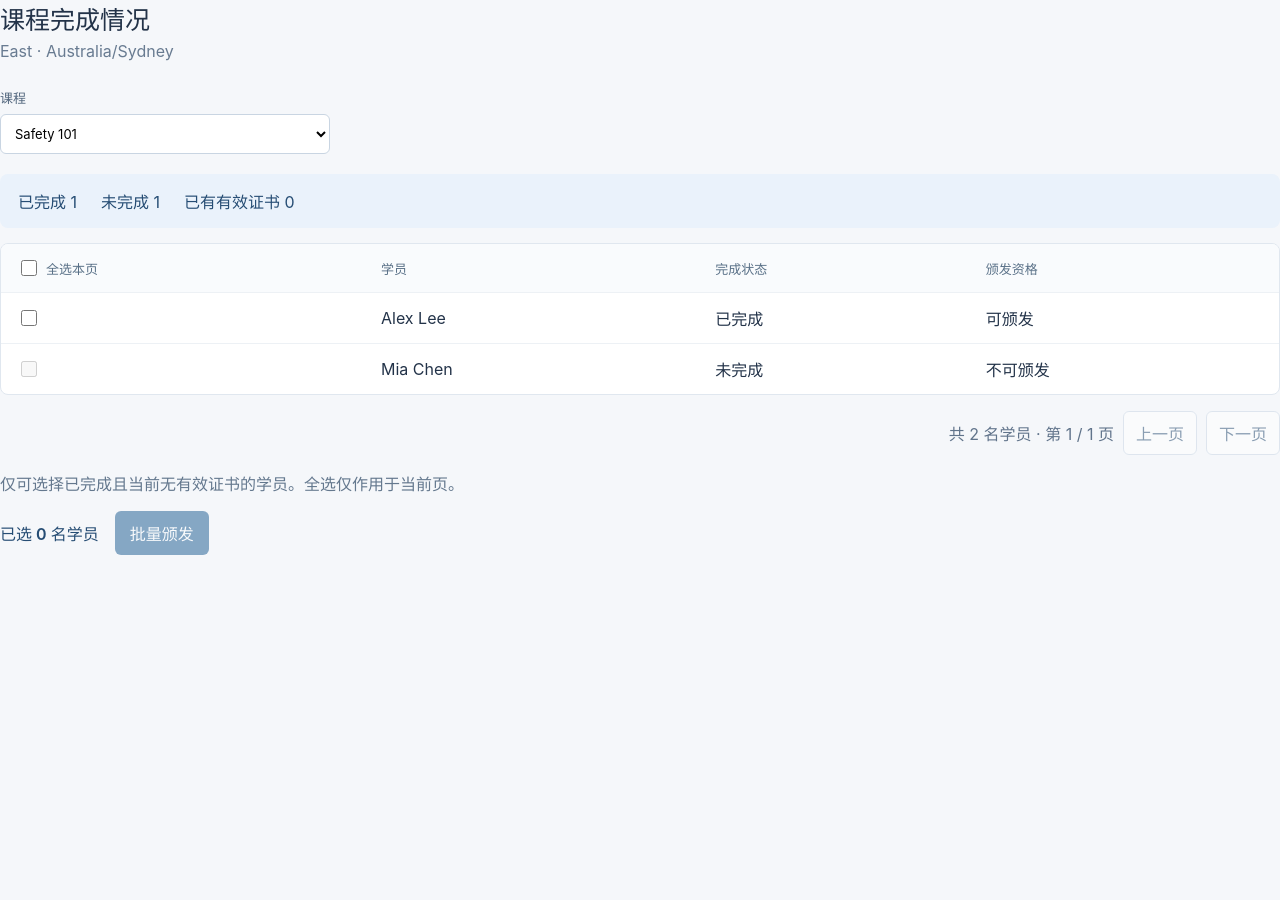
Test case: focuses bulk confirmation and returns focus when Escape closes it
Check: the text "Alex Lee" is shown, box [365,292,699,344]
Click the checkbox named "选择 Alex Lee": (29, 318) [21,310,37,326]
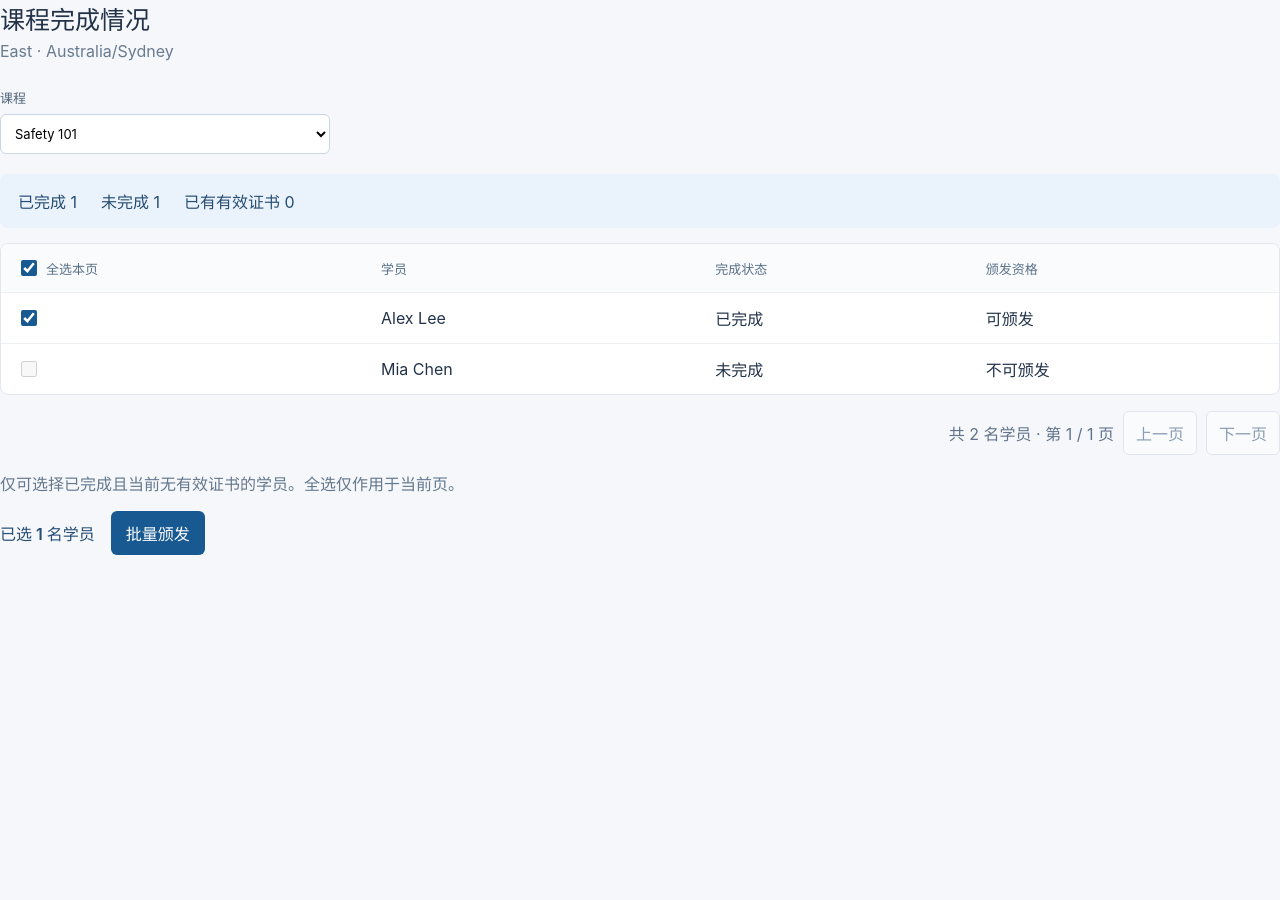
Click the button "批量颁发": (158, 533) [111,511,205,555]
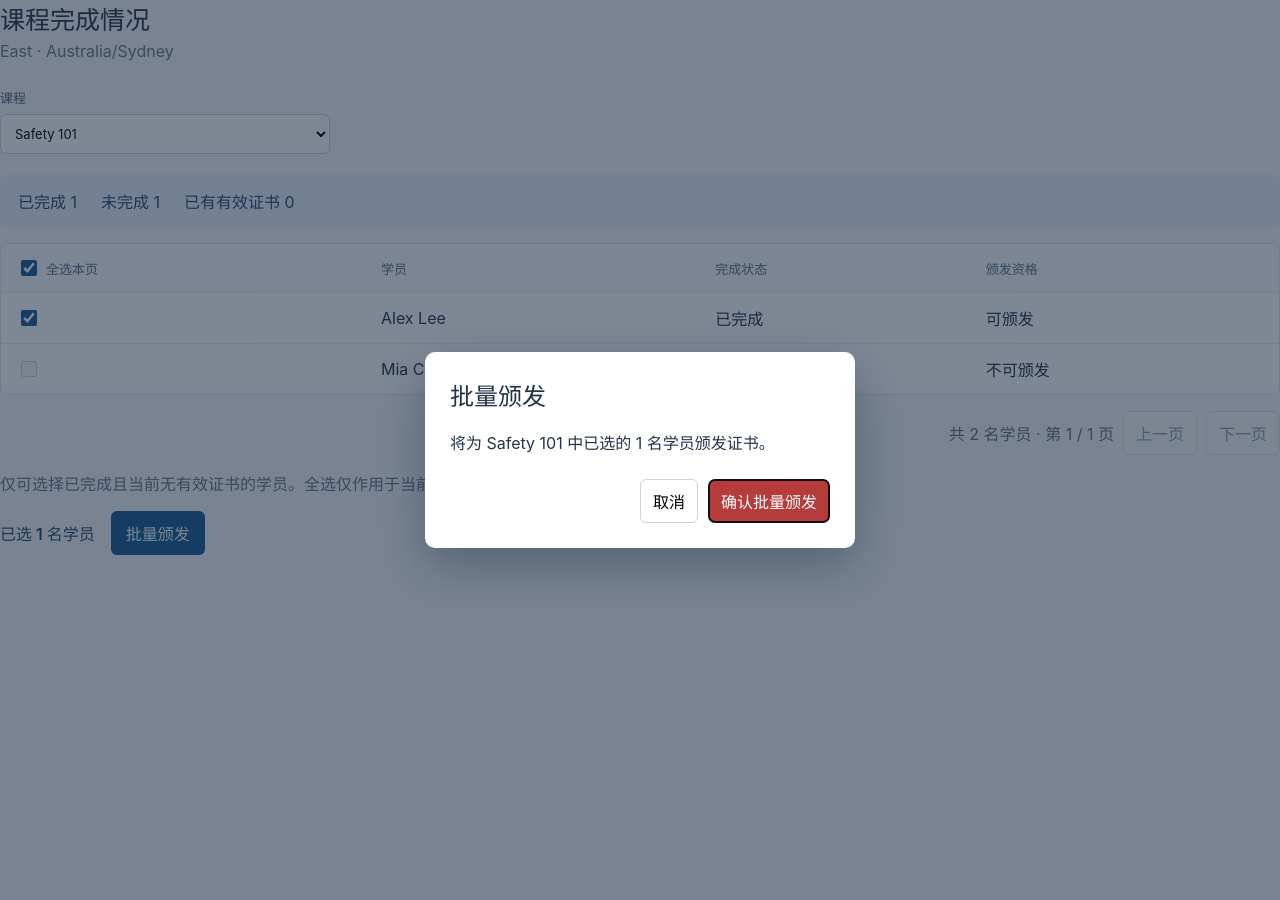
Press Escape
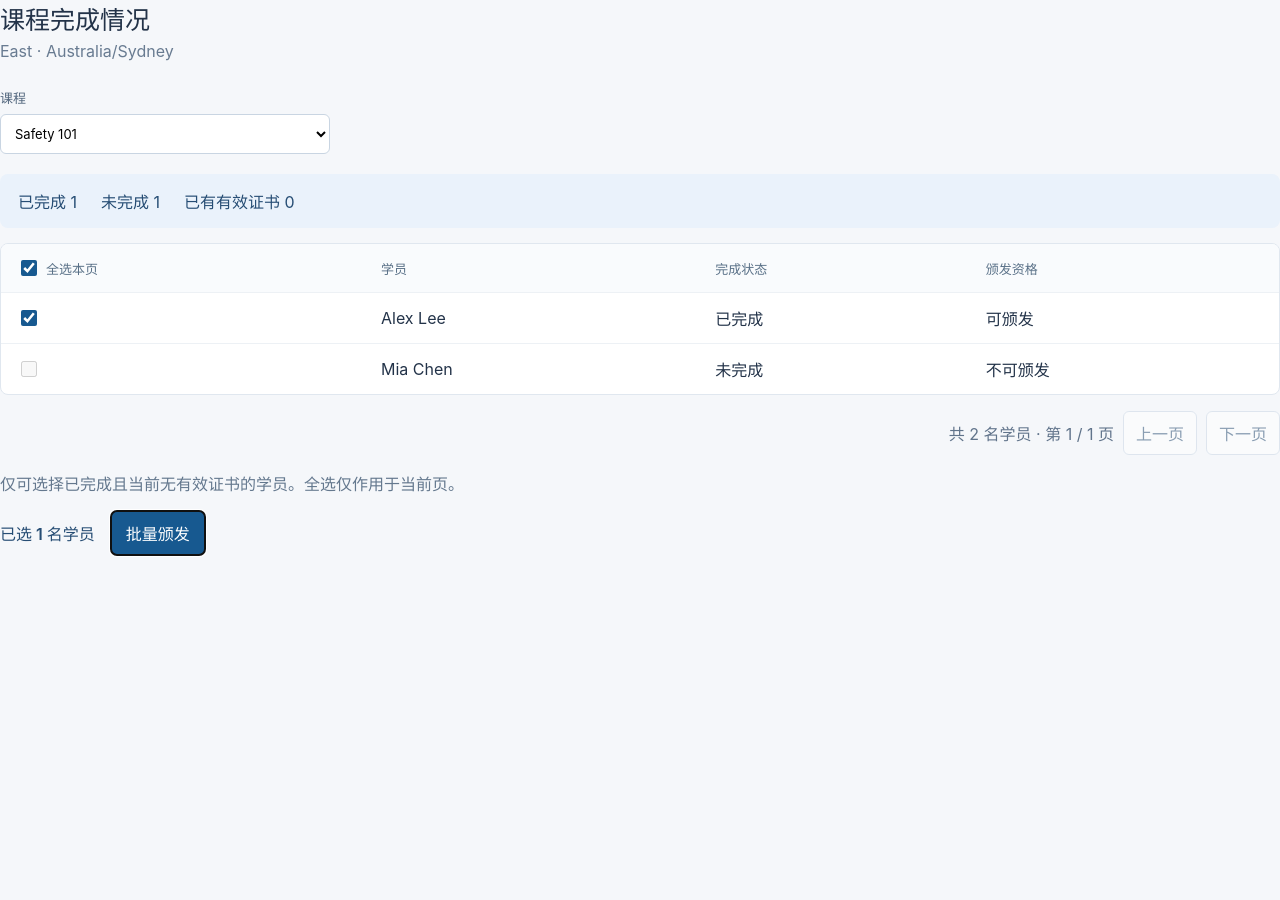
Check: the dialog is gone
